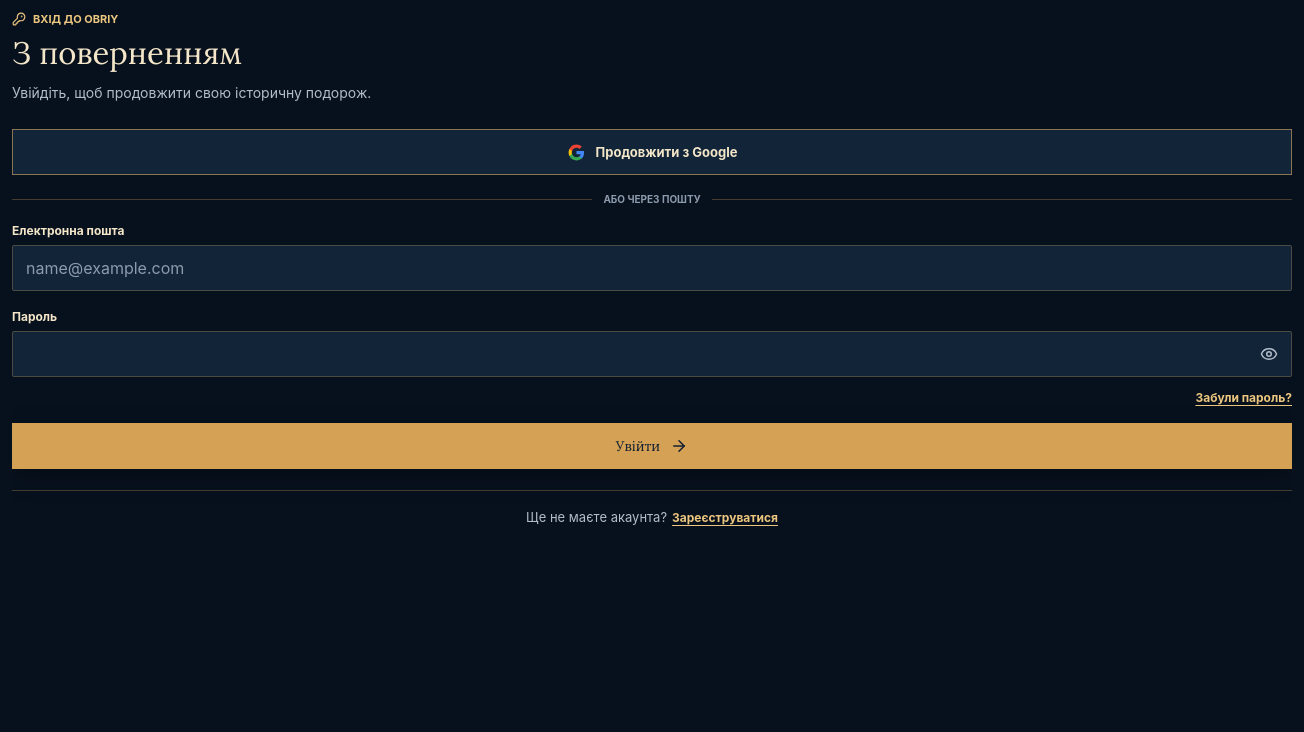
Test: LoginPage › signs in through the real API client and stores the session
The width and height of the screenshot is (1304, 732).
Type "student@example.com" into the field with id "login-email" at x=652, y=268, box [12,245,1292,291]
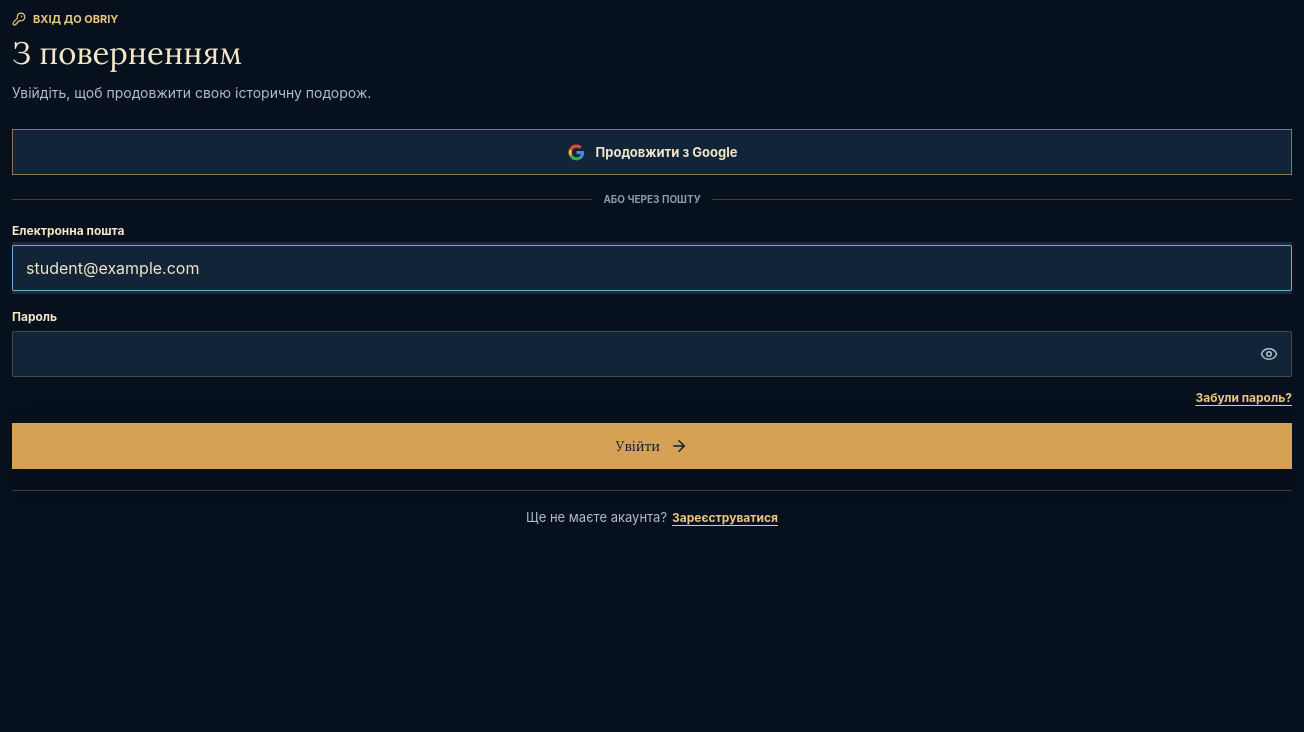
Type "Secret1234" into the password field with id "login-password" at x=652, y=354, box [12,331,1292,377]
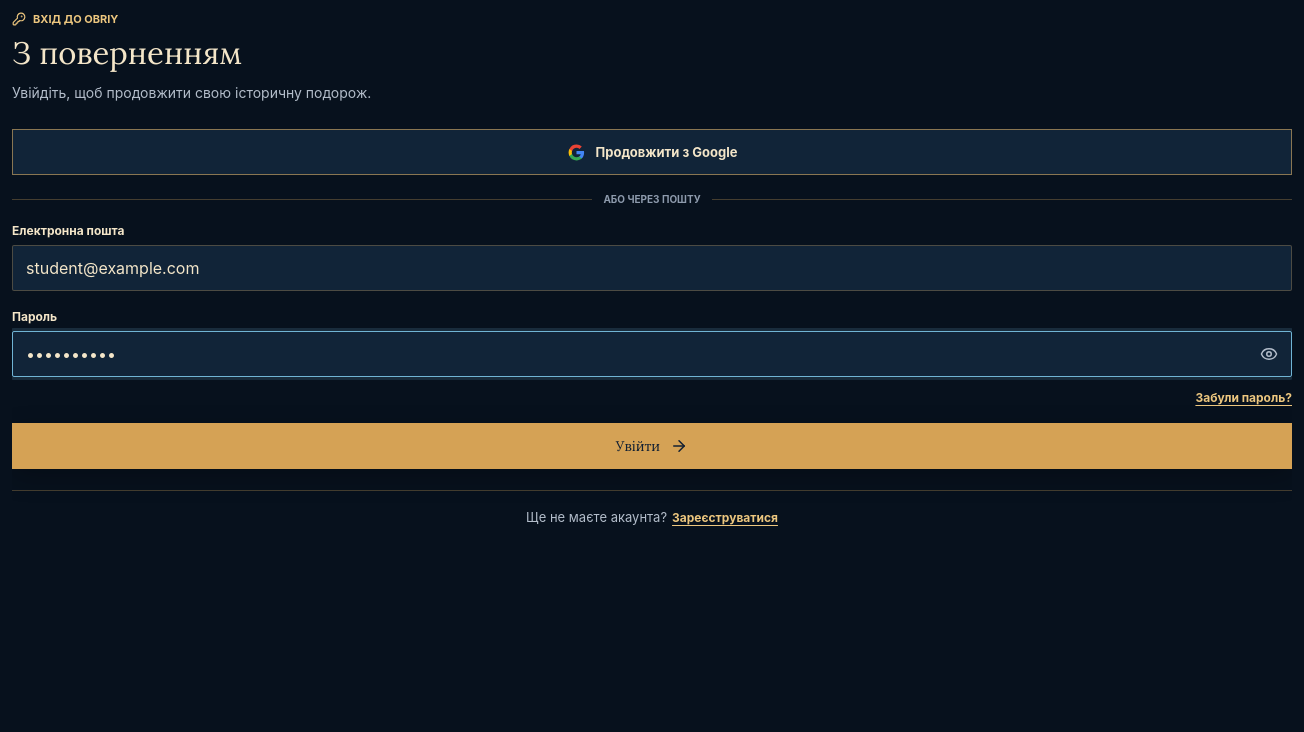
Click the submit button at x=652, y=446, box [12,423,1292,469]
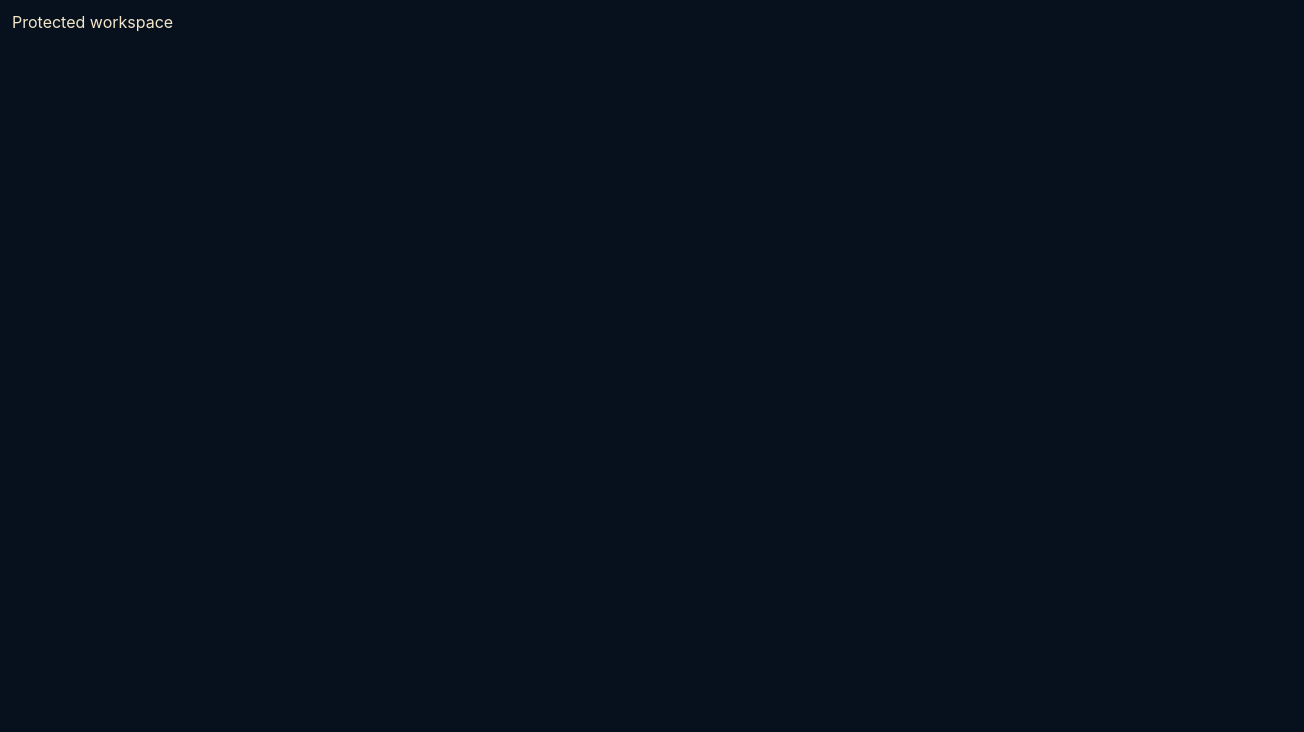
Result: the text "Protected workspace" is shown at [12,12,173,32]
